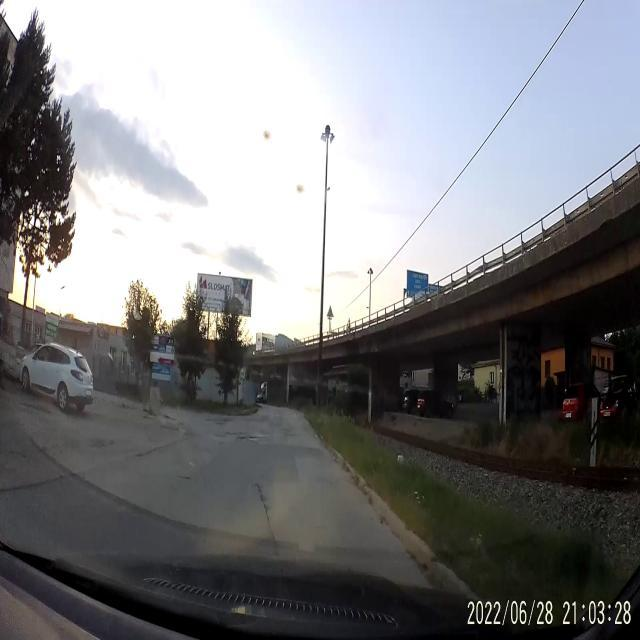Pothole: (256, 482, 270, 524), (236, 431, 264, 444), (225, 429, 234, 437)
